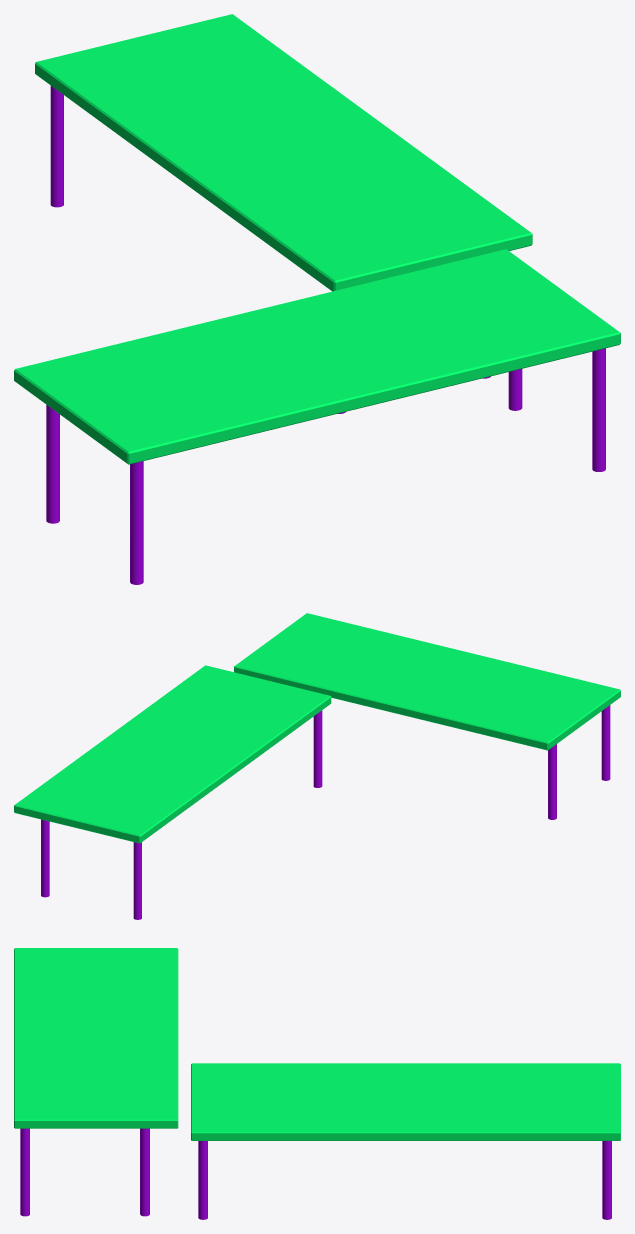
Rendered from SM_RH_Tables.fbx.
3 views of the same model, one above another, from view 1: azimuth 30°, elevation 25°; view 2: azimuth 150°, elevation 25°; view 3: azimuth 270°, elevation 25° (orthographic). The views are drawn at different scales.
Parts seen in each view (by area): view 1: Cylinder005; view 2: Cylinder005; view 3: Cylinder005.
Boxes of the visible parts, x1,y1,x2,y2 form: Cylinder005: (14, 14, 620, 584); Cylinder005: (14, 613, 620, 919); Cylinder005: (14, 948, 620, 1219).
Size of the model in its own units: 381 by 529 by 95.65.
